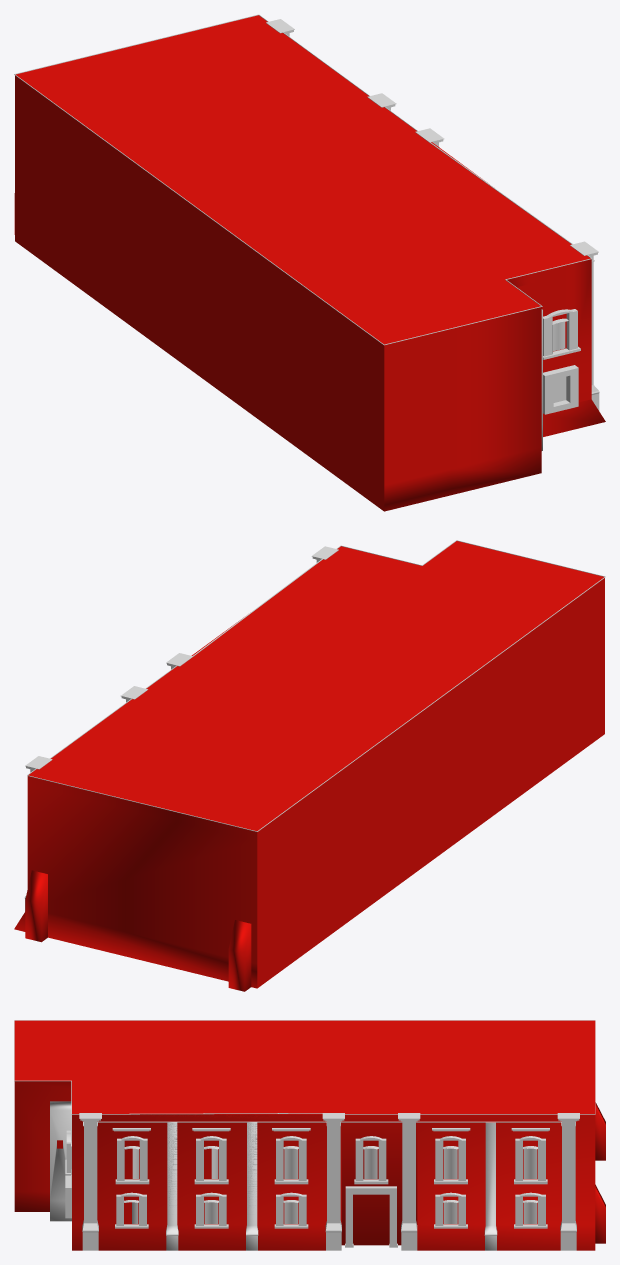
The picture shows the model from 3 angles, top to bottom: view 1: azimuth 30°, elevation 25°; view 2: azimuth 150°, elevation 25°; view 3: azimuth 270°, elevation 25°; orthographic projection. The views are drawn at different scales.
Visible parts, largest first — view 1: Edificio_Principal, Ventana_Roca, Dintel_Superior, Columnas_Principales.001, Madera_Ventanas, Columnas_Principales; view 2: Edificio_Principal, Dintel_Superior, Columnas_Principales.001; view 3: Edificio_Principal, Ventana_Roca, Columnas_Principales, Columnas_Secundarias, Madera_Ventanas, Dintel_Superior, Torre, Roca_Puerta, Columnas_Principales.001, Dintel.
Boxes of the visible parts, x1,y1,x2,y2 form: Edificio_Principal: (14, 15, 605, 511); Ventana_Roca: (543, 309, 580, 414); Dintel_Superior: (14, 14, 594, 345); Columnas_Principales.001: (266, 19, 599, 394); Madera_Ventanas: (553, 321, 566, 402); Columnas_Principales: (284, 30, 599, 410); Edificio_Principal: (14, 541, 604, 991); Dintel_Superior: (27, 540, 605, 831); Columnas_Principales.001: (24, 546, 338, 898); Edificio_Principal: (14, 1020, 605, 1250); Ventana_Roca: (65, 1130, 547, 1228); Columnas_Principales: (80, 1119, 579, 1250); Columnas_Secundarias: (166, 1122, 496, 1250); Madera_Ventanas: (132, 1148, 537, 1223); Dintel_Superior: (14, 1020, 595, 1126); Torre: (50, 1101, 71, 1221); Roca_Puerta: (345, 1186, 397, 1247); Columnas_Principales.001: (79, 1113, 579, 1232); Dintel: (112, 1128, 549, 1131).
Size of what is drawn, in the model's own units: 13.27 by 8.17 by 33.39.
